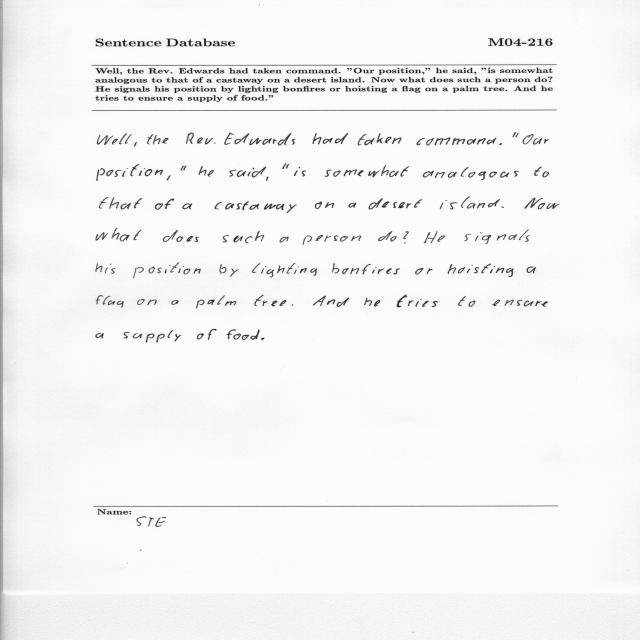word: (423, 167, 519, 180), (97, 164, 163, 181), (324, 165, 409, 177), (133, 263, 201, 278), (214, 201, 297, 213), (464, 229, 530, 244), (224, 133, 296, 146), (252, 263, 317, 277), (448, 264, 514, 277), (332, 263, 400, 275), (440, 197, 500, 210), (124, 330, 181, 343), (416, 138, 497, 146), (303, 235, 362, 245), (96, 228, 141, 241), (369, 198, 422, 209), (196, 295, 236, 309), (358, 133, 402, 145), (99, 197, 142, 209), (222, 231, 264, 243), (397, 295, 438, 307), (163, 230, 199, 242), (97, 133, 132, 145), (313, 133, 348, 145), (525, 198, 560, 210), (230, 167, 267, 178), (313, 296, 349, 307), (492, 300, 548, 307), (226, 329, 260, 340), (96, 295, 124, 308), (254, 295, 287, 306), (186, 133, 215, 145), (523, 134, 550, 145), (219, 264, 239, 277), (424, 231, 445, 243), (96, 263, 116, 274), (197, 329, 217, 340), (147, 135, 168, 145), (155, 199, 174, 210), (378, 231, 397, 242), (458, 296, 476, 307), (199, 166, 214, 177), (315, 201, 334, 209), (535, 167, 550, 177), (365, 298, 381, 307), (137, 299, 157, 305), (294, 167, 306, 176), (415, 268, 433, 274), (403, 231, 409, 244), (182, 204, 192, 210), (526, 267, 536, 273), (280, 237, 289, 243), (349, 203, 357, 208), (171, 300, 179, 305), (96, 333, 104, 338), (512, 133, 519, 138), (181, 166, 187, 171), (283, 164, 289, 169), (167, 175, 170, 181), (134, 142, 137, 147), (266, 177, 269, 181), (499, 143, 502, 145), (261, 338, 264, 340), (502, 207, 504, 208), (292, 304, 293, 306)
